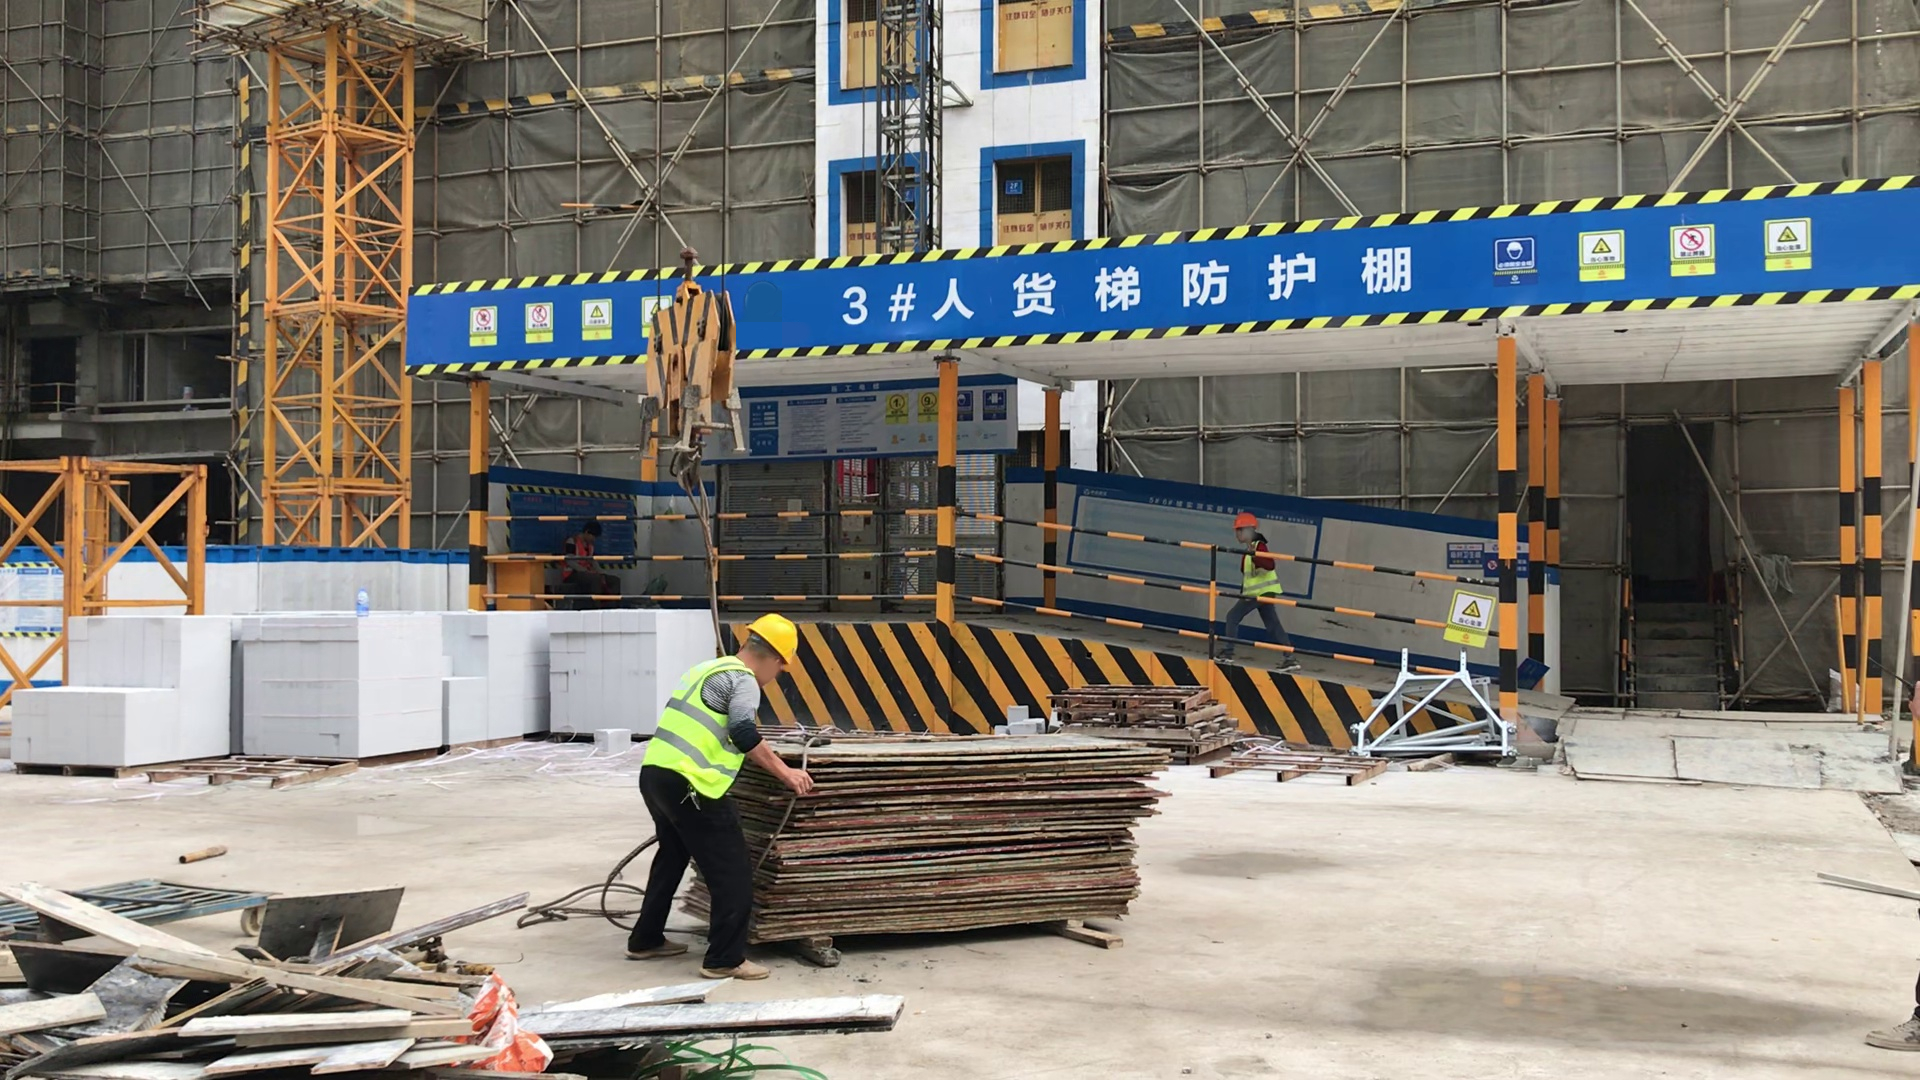board: (746, 734, 1174, 946)
brick: (11, 609, 713, 764)
helmet: (743, 605, 797, 665), (1233, 511, 1258, 531)
hook: (648, 279, 737, 490)
person: (634, 605, 819, 979), (1219, 509, 1303, 671)
slogan: (1487, 214, 1821, 284), (460, 297, 674, 343), (886, 388, 1008, 447), (1440, 539, 1541, 591), (1440, 589, 1497, 656)
vest: (646, 653, 755, 797), (1239, 544, 1282, 596)
